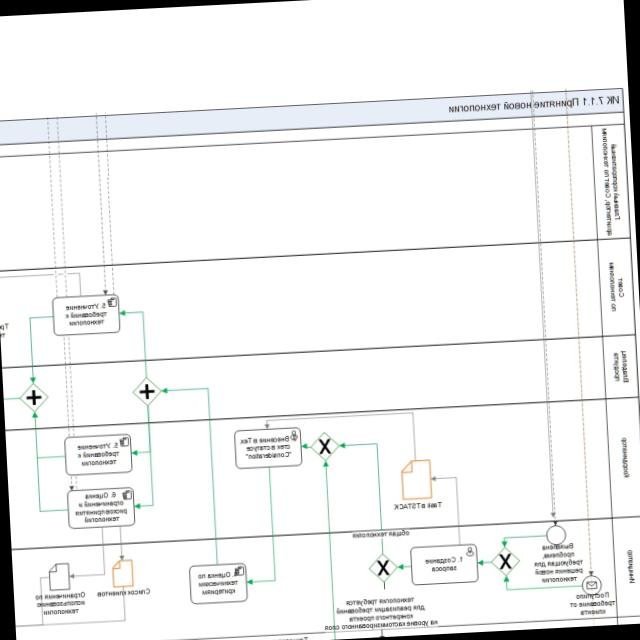arrow: (161, 384, 220, 566), (340, 440, 386, 556), (240, 466, 278, 586), (30, 410, 68, 513), (130, 404, 156, 511), (25, 314, 57, 384), (120, 307, 150, 378), (30, 410, 66, 460), (502, 570, 582, 592), (128, 404, 154, 457), (500, 532, 548, 548), (398, 562, 412, 572), (478, 558, 492, 567), (301, 442, 312, 451)
circle: (545, 524, 567, 546), (581, 574, 603, 596)
diamond: (20, 384, 47, 411), (491, 548, 518, 575), (133, 378, 160, 405), (311, 433, 338, 460), (369, 554, 395, 581)
rectangle: (67, 488, 134, 528), (410, 544, 477, 584), (52, 295, 119, 335), (234, 428, 301, 468), (64, 434, 131, 474), (188, 562, 248, 604)
text_region: (322, 593, 439, 631), (533, 542, 585, 584), (32, 590, 88, 618), (568, 591, 616, 617), (351, 528, 411, 540), (95, 586, 151, 598), (392, 499, 442, 512)
